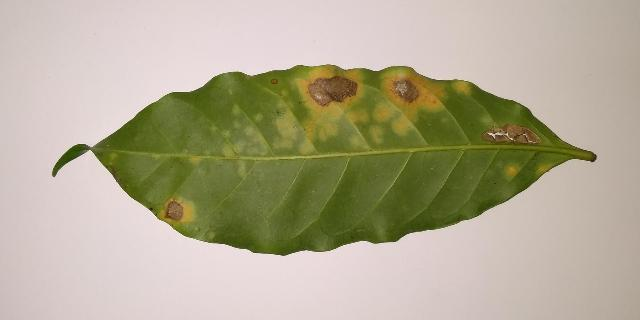cercospora: (275, 64, 368, 155), (375, 68, 445, 134), (482, 125, 540, 145), (158, 198, 195, 226), (246, 126, 267, 155), (222, 142, 244, 158), (370, 125, 384, 144), (537, 162, 555, 176), (452, 80, 470, 94), (505, 163, 520, 177), (238, 157, 246, 176), (190, 156, 201, 163), (222, 131, 230, 139), (256, 114, 261, 120), (272, 79, 277, 84)
